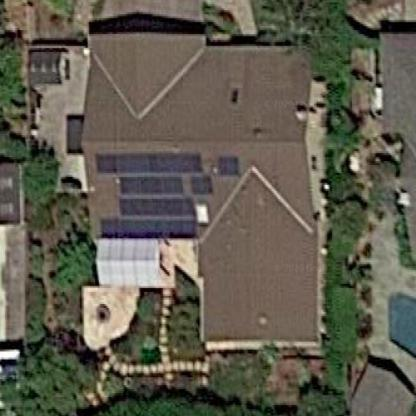solar_panel: (85, 145, 253, 247)
